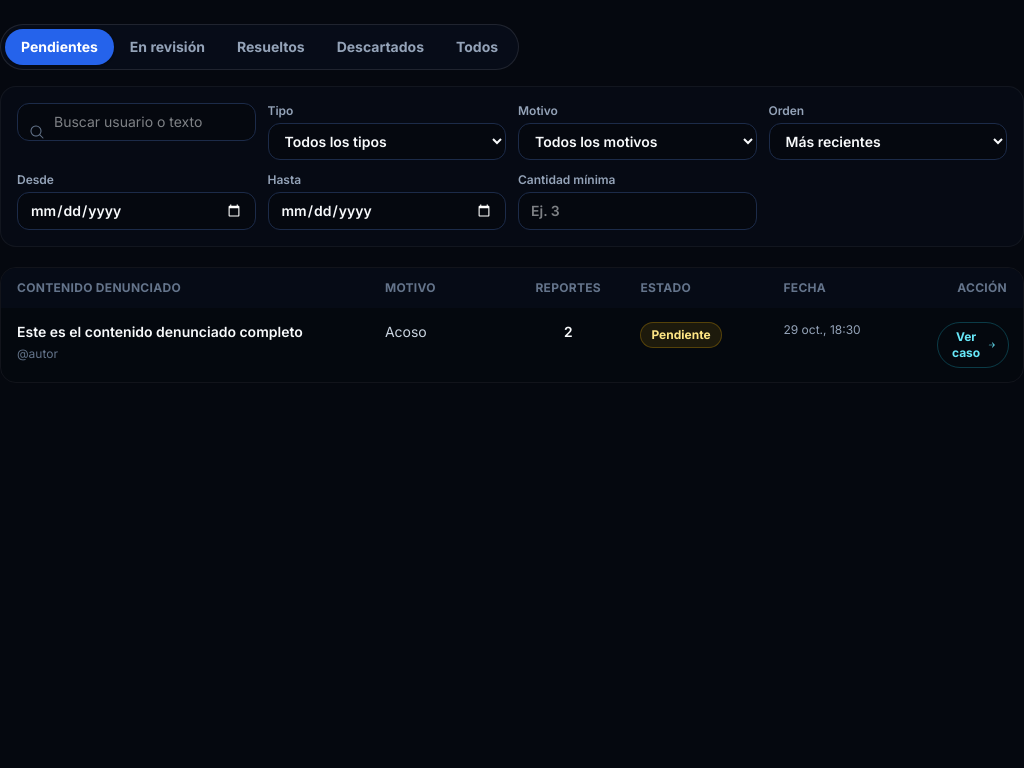
Test: ReportesSeccion › abre el caso sin perder filtros y lo cierra con Escape restaurando el foco
Expected: the column heading "Contenido denunciado" is shown, [1, 268, 369, 308]
Expected: the text "2" is shown, [512, 308, 624, 382]
Step 1. Select "Acoso" in the dropdown labelled "Motivo" → (637, 142), box [518, 123, 756, 160]
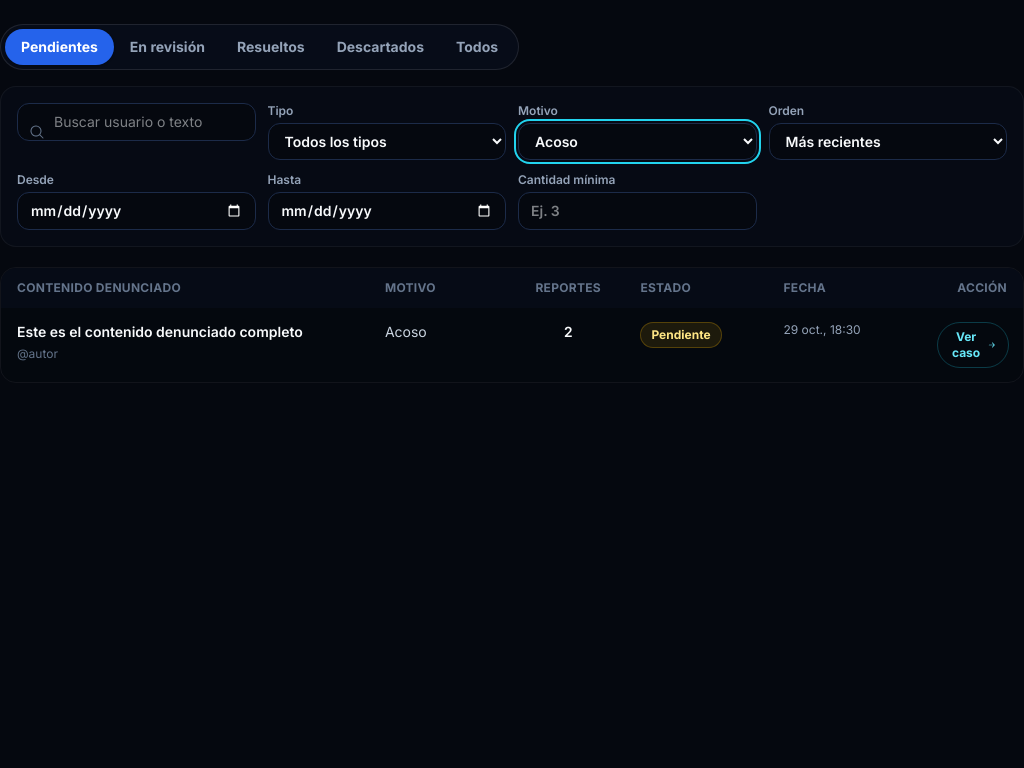
Step 2. Click the button "Ver caso" → (973, 345), box [937, 322, 1009, 368]
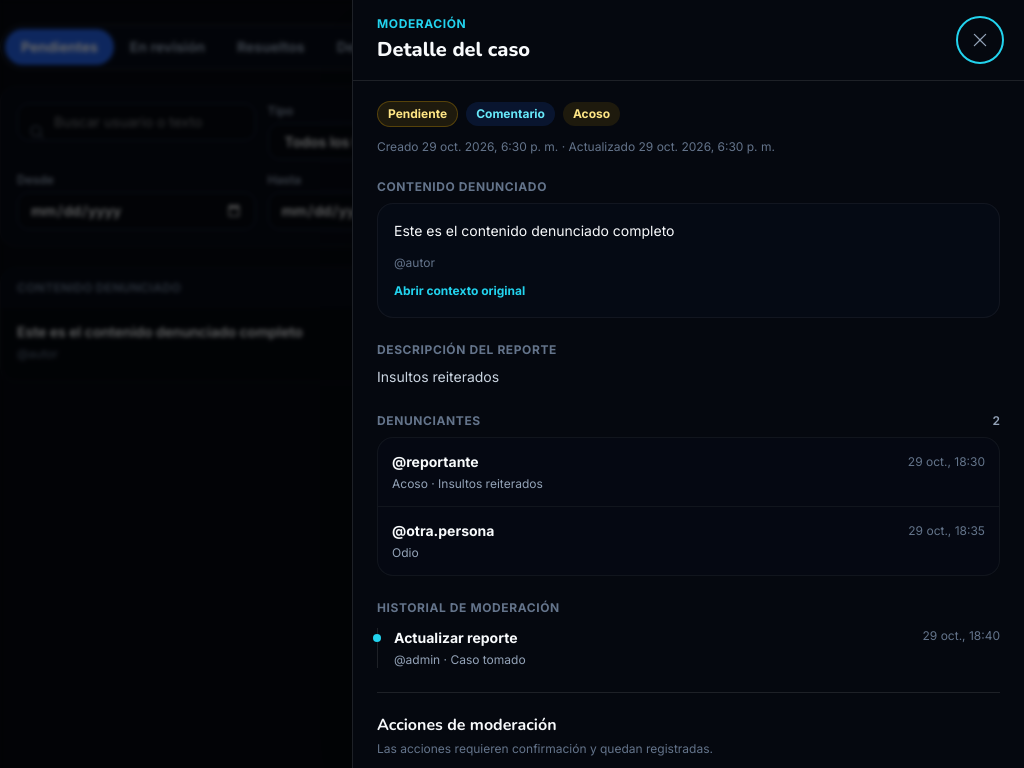
Now the dialog "Detalle del caso" shows "Este es el contenido denunciado completo", box [394, 222, 674, 239]
Now the dialog "Detalle del caso" shows "@otra.persona"
Now the dialog "Detalle del caso" shows "Caso tomado", box [450, 652, 526, 666]
Step 3. Press Escape
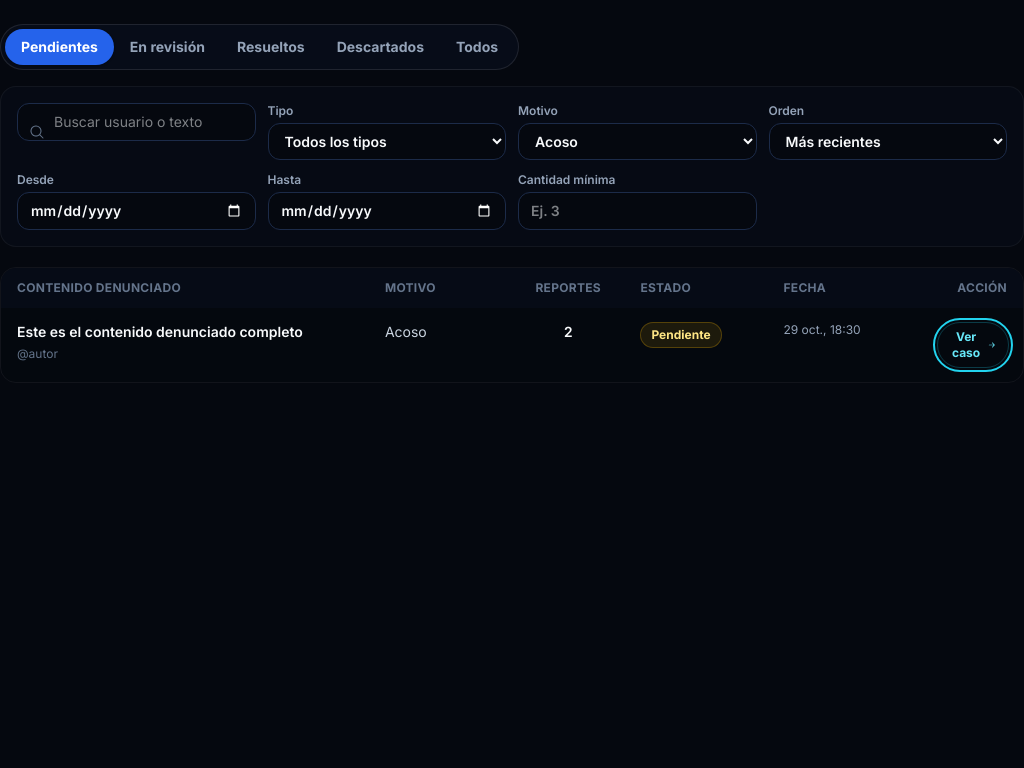
Now the dialog is gone
